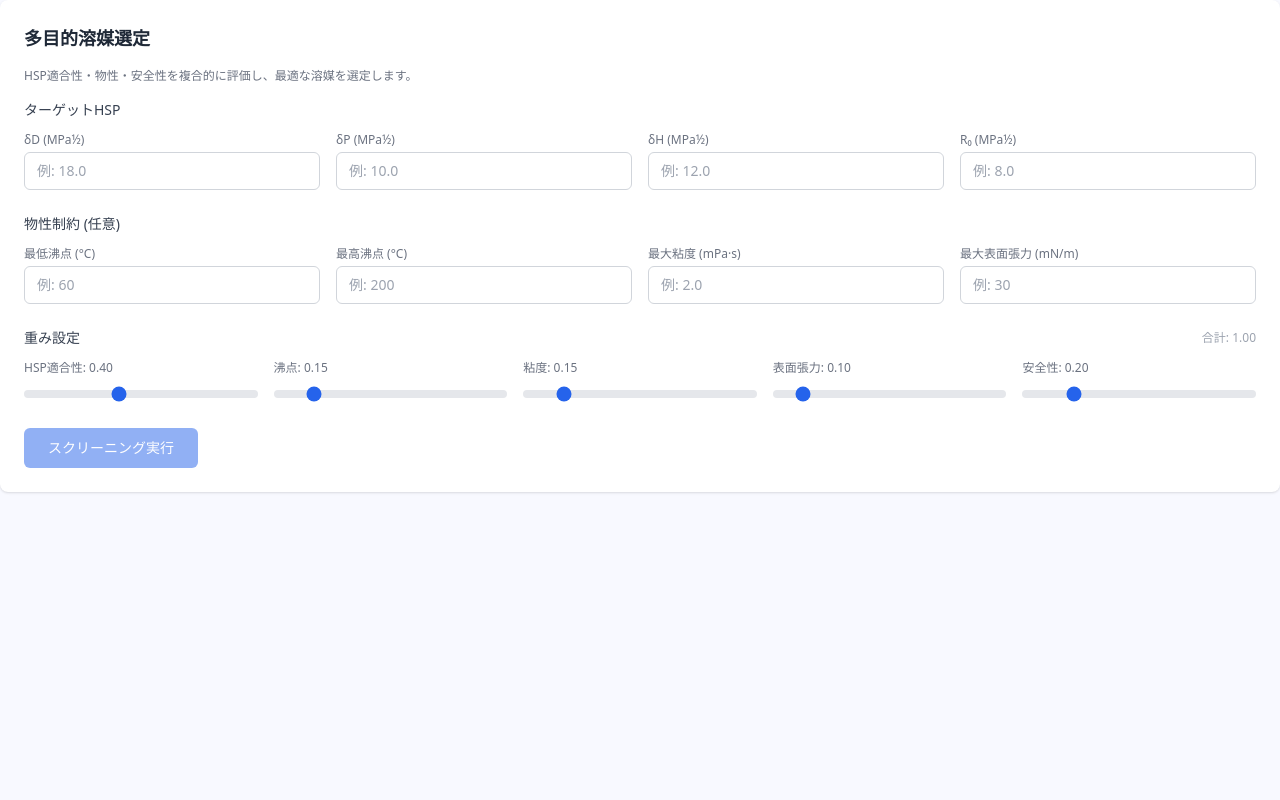
it: MultiObjectiveView › 結果が scores.hspMatch, scores.overall で表示される
// Fill in required fields
Type "18" into the number field with placeholder "例: 18.0".
click(172, 171); type("18")  # box [24,152,320,190]
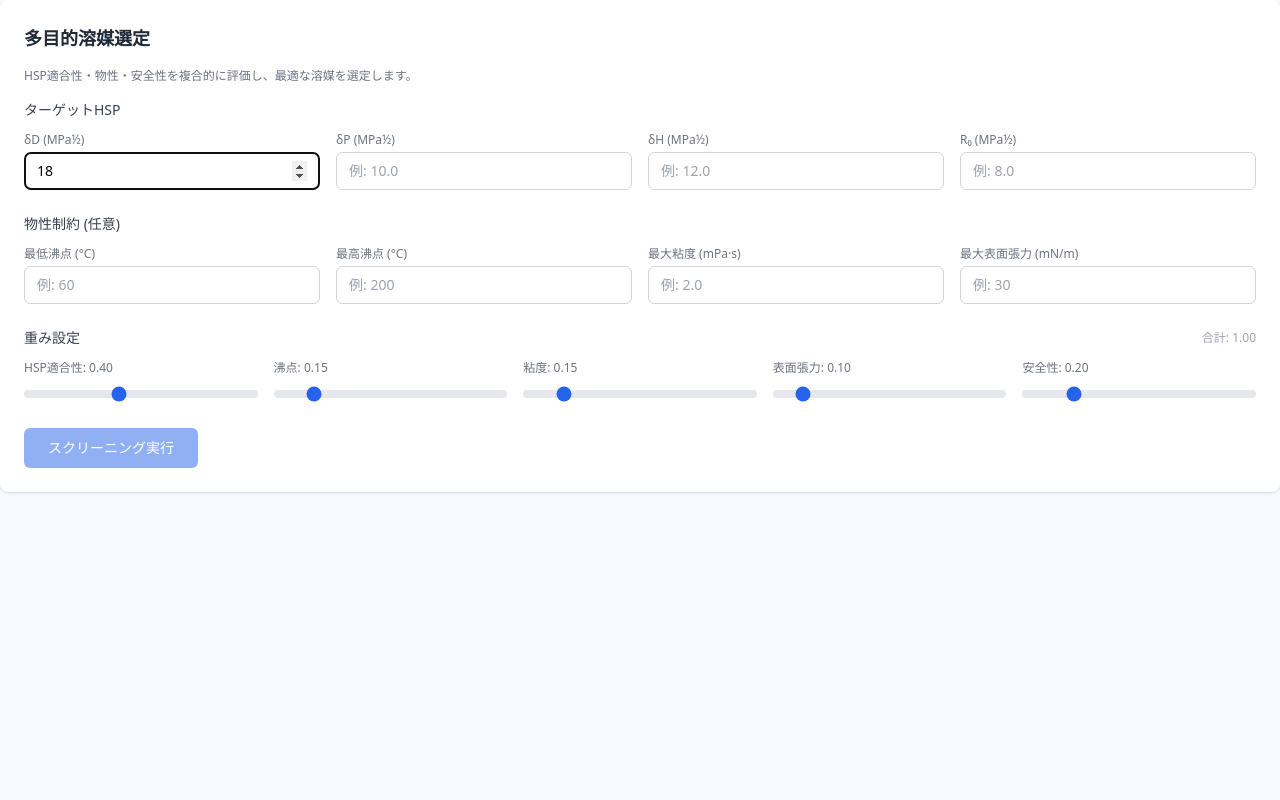
Type "10" into the number field with placeholder "例: 10.0".
click(484, 171); type("10")  # box [336,152,632,190]
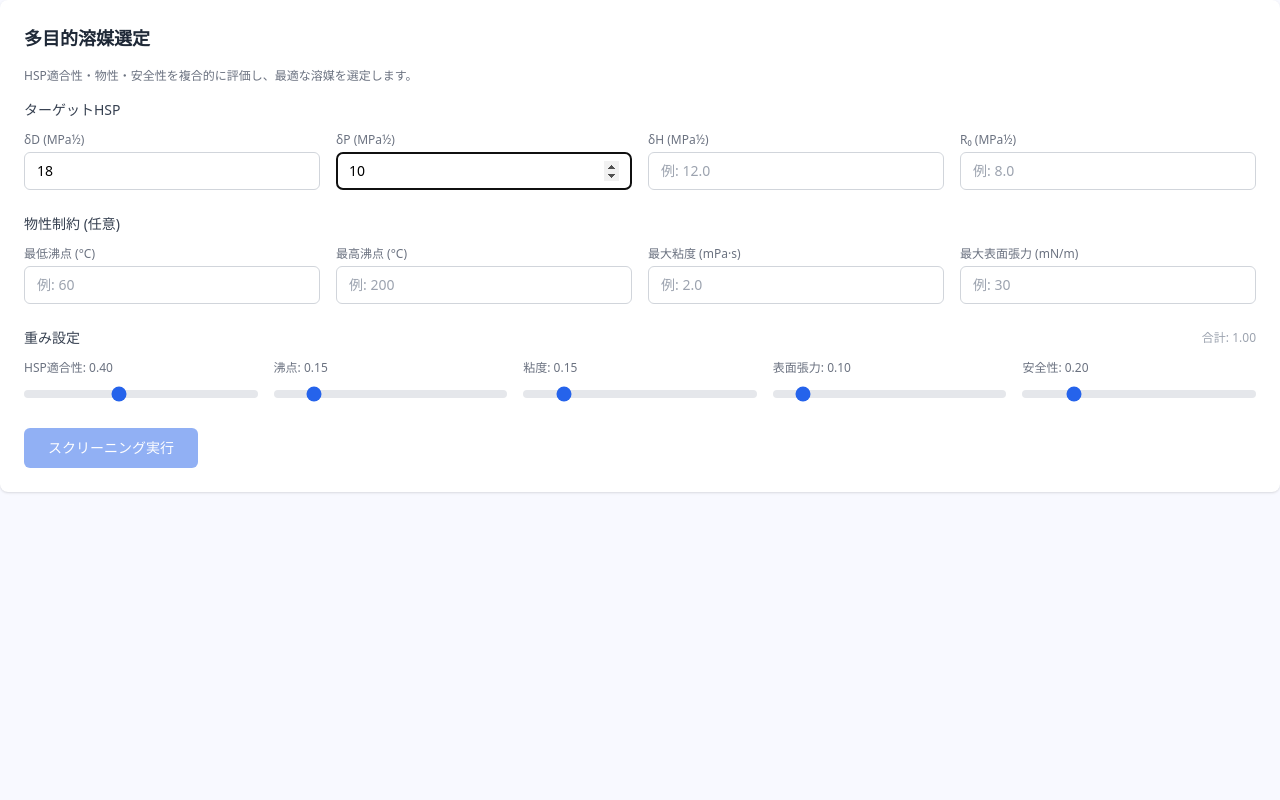
Type "12" into the number field with placeholder "例: 12.0".
click(796, 171); type("12")  # box [648,152,944,190]
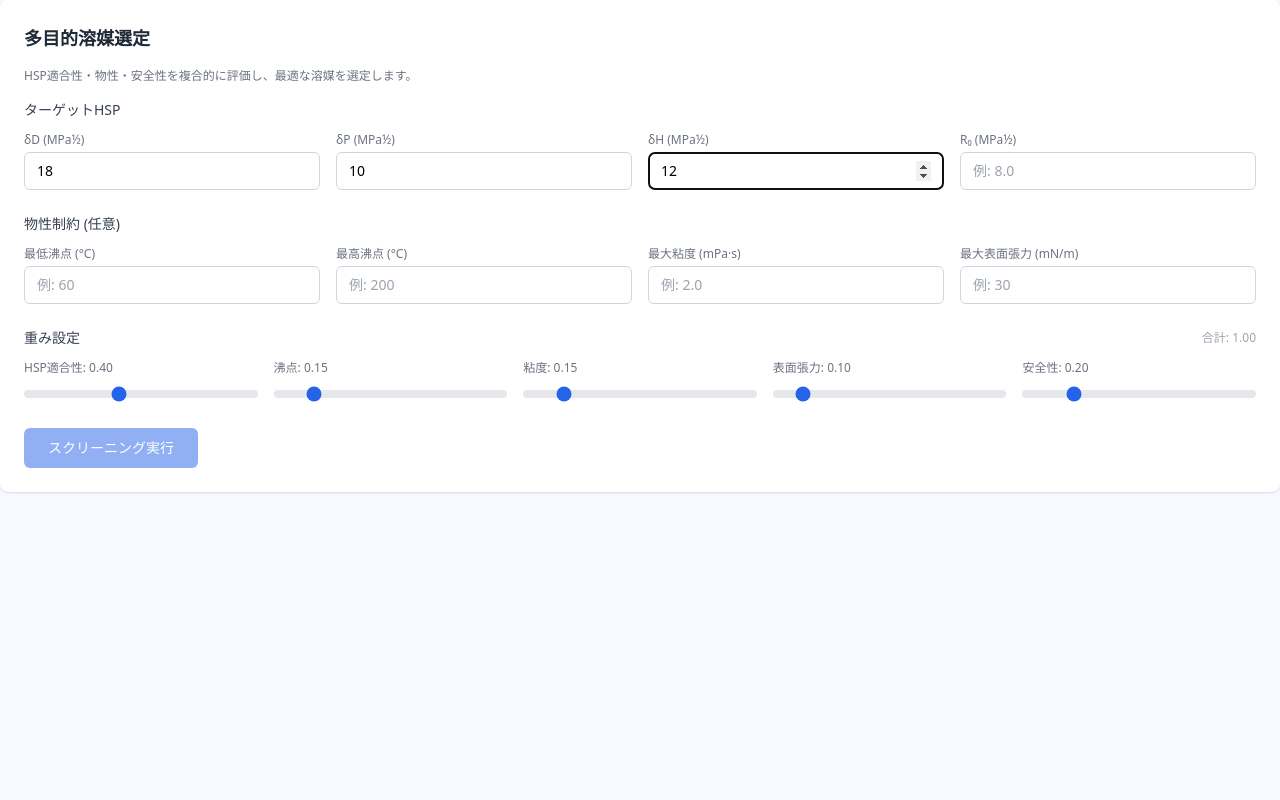
Type "8" into the number field with placeholder "例: 8.0".
click(1108, 171); type("8")  # box [960,152,1256,190]
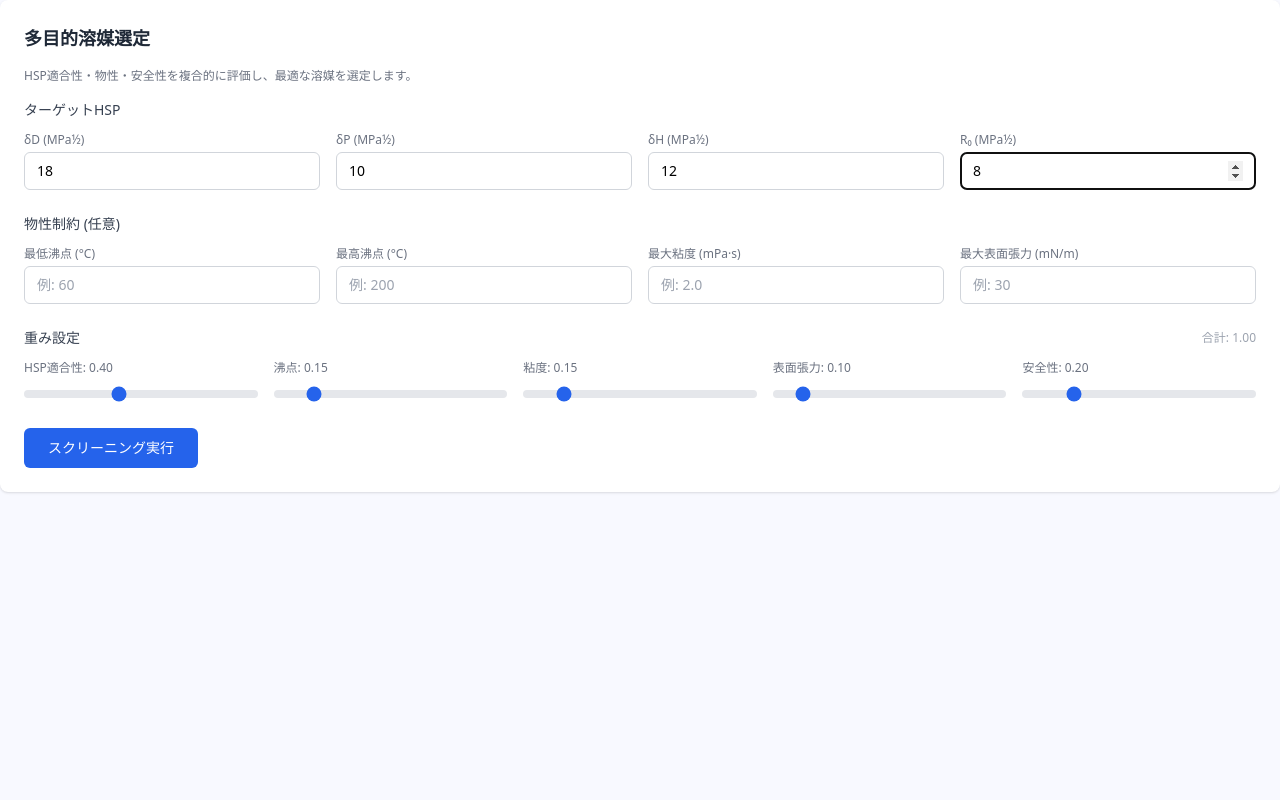
Click the button "スクリーニング実行".
click(111, 448)  # box [24,428,198,468]
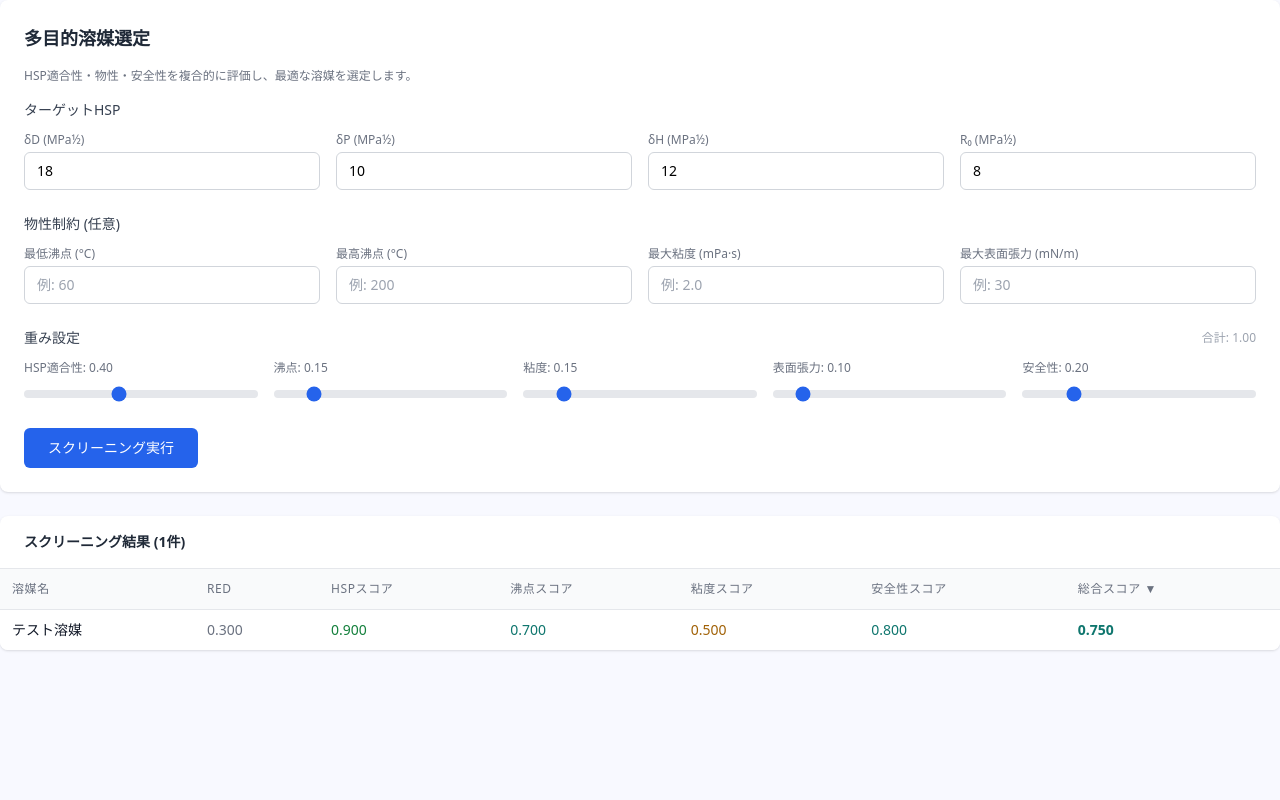
Expected: the heading "スクリーニング結果 (1件)" is shown, [24,532,185,551]
